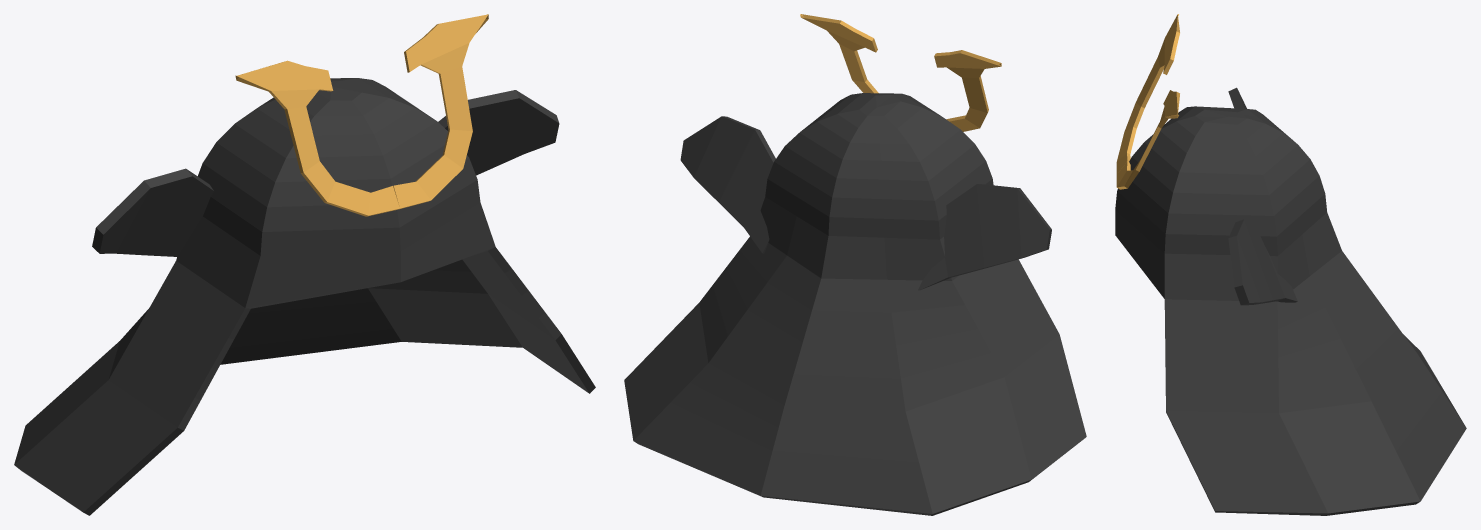
Rendered from Samurai_5.1-helmet.fbx.
3 views of the same model, side by side, from view 1: azimuth 30°, elevation 25°; view 2: azimuth 150°, elevation 25°; view 3: azimuth 270°, elevation 25° (orthographic). The views are drawn at different scales.
Visible parts, largest first — view 1: helmet.003; view 2: helmet.003; view 3: helmet.003.
Part boxes in pixels (x1,y1,x2,y2): helmet.003: (14, 14, 595, 515); helmet.003: (624, 14, 1086, 515); helmet.003: (1115, 14, 1466, 515).
Bounding box in the file's own units: 458 × 388 × 333.
